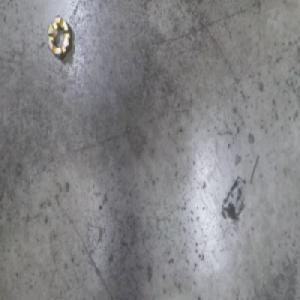Nut: (45, 14, 72, 62)
